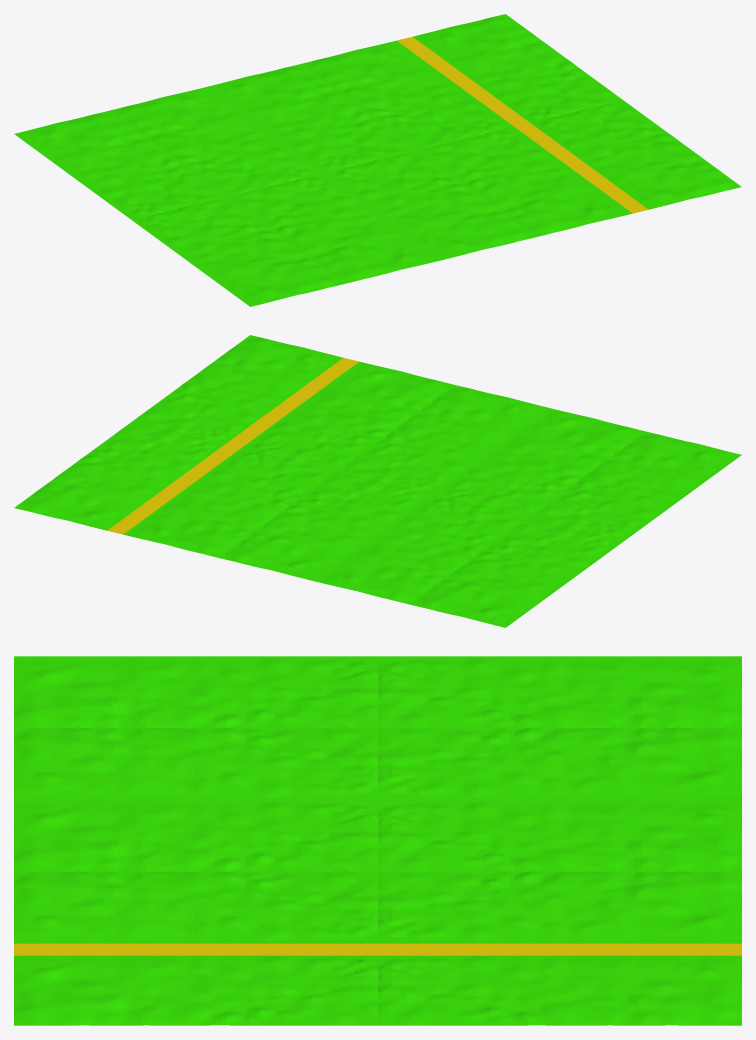
The model's file is ard001.fbx.
The picture shows the model from 3 angles, top to bottom: view 1: azimuth 30°, elevation 25°; view 2: azimuth 150°, elevation 25°; view 3: azimuth 270°, elevation 25°; orthographic projection. The views are drawn at different scales.
Visible parts, largest first — view 1: arde.001; view 2: arde.001; view 3: arde.001.
Part boxes in pixels (<box>): arde.001: <box>14,14,741,306</box>; arde.001: <box>14,335,741,627</box>; arde.001: <box>14,656,741,1025</box>.
Size of the model in its own units: 15768 by 72.11 by 13133.
